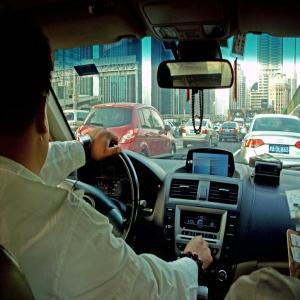Vehicle-registration-plate: (270, 146, 290, 155), (191, 131, 198, 134), (226, 131, 231, 133)
